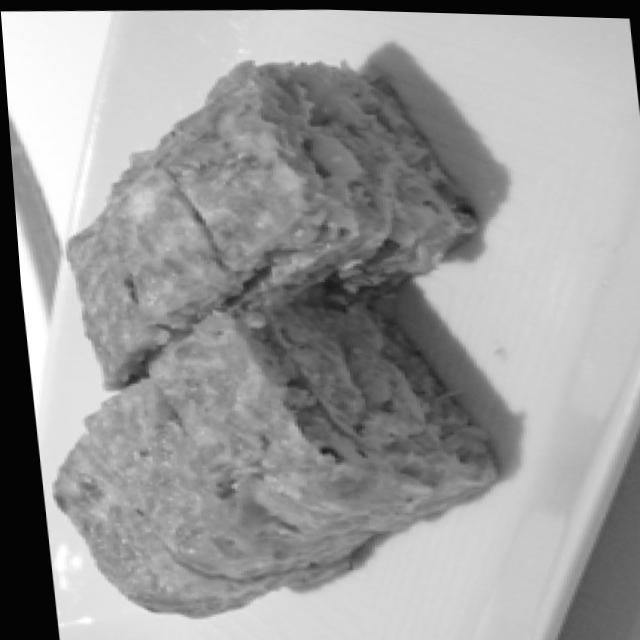鸡蛋料理: (2, 33, 519, 640)
